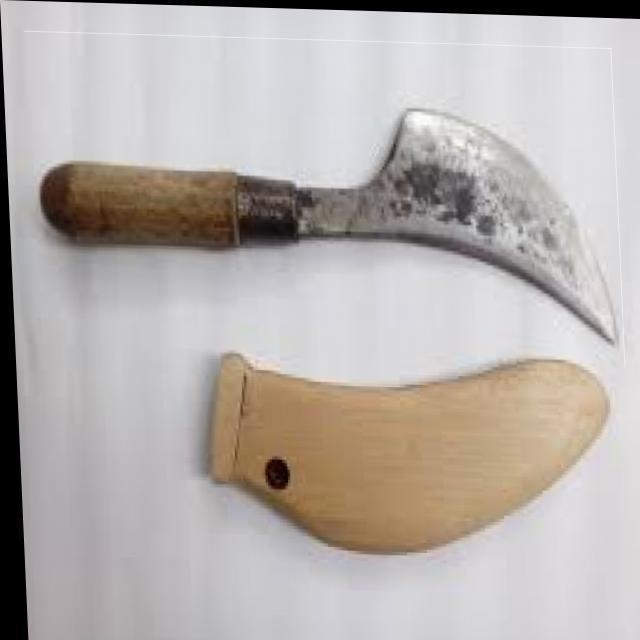Knife: (24, 31, 622, 363)
